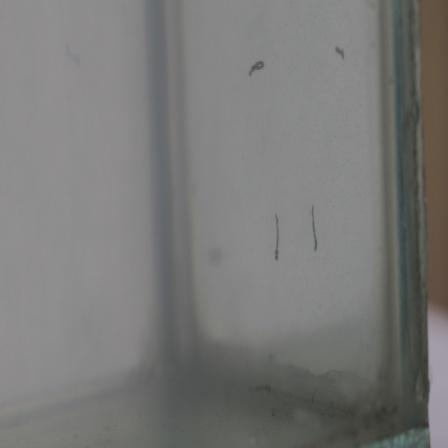Jentik-Nyamuk: (269, 209, 283, 265)
